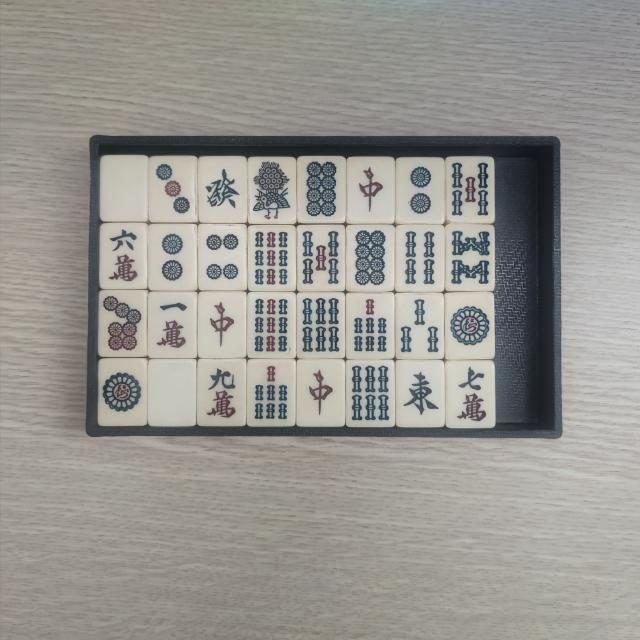hdg: (202, 159, 243, 218)
hdr: (300, 364, 340, 422), (202, 295, 242, 353), (351, 159, 390, 218)
hdw: (104, 159, 144, 217), (154, 365, 192, 422)
hwe: (401, 365, 442, 423)
sb1: (250, 158, 294, 220)
sb3: (400, 296, 440, 356)
sb4: (400, 230, 440, 290)
sb5: (448, 160, 491, 220), (301, 228, 342, 288)
sb6: (349, 363, 392, 423), (299, 296, 342, 355)
sb7: (251, 363, 292, 422), (351, 296, 392, 354)
sb8: (449, 228, 490, 288)
sb9: (252, 296, 293, 355), (253, 230, 292, 289)
sc1: (154, 295, 194, 353)
sc6: (104, 227, 143, 285)
sc7: (452, 364, 491, 425)
sc9: (202, 364, 242, 422)
sd1: (100, 363, 144, 421), (448, 298, 491, 356)
sd2: (401, 160, 441, 220), (154, 229, 193, 286)
sd3: (153, 159, 194, 219)
sd4: (202, 230, 242, 288)
sd7: (101, 294, 142, 353)
sd8: (302, 159, 342, 220), (350, 229, 390, 289)
